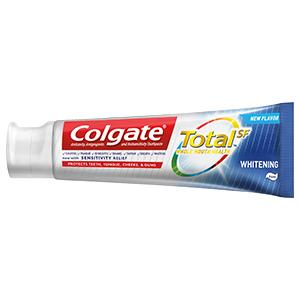toothpaste: (3, 100, 292, 202)
